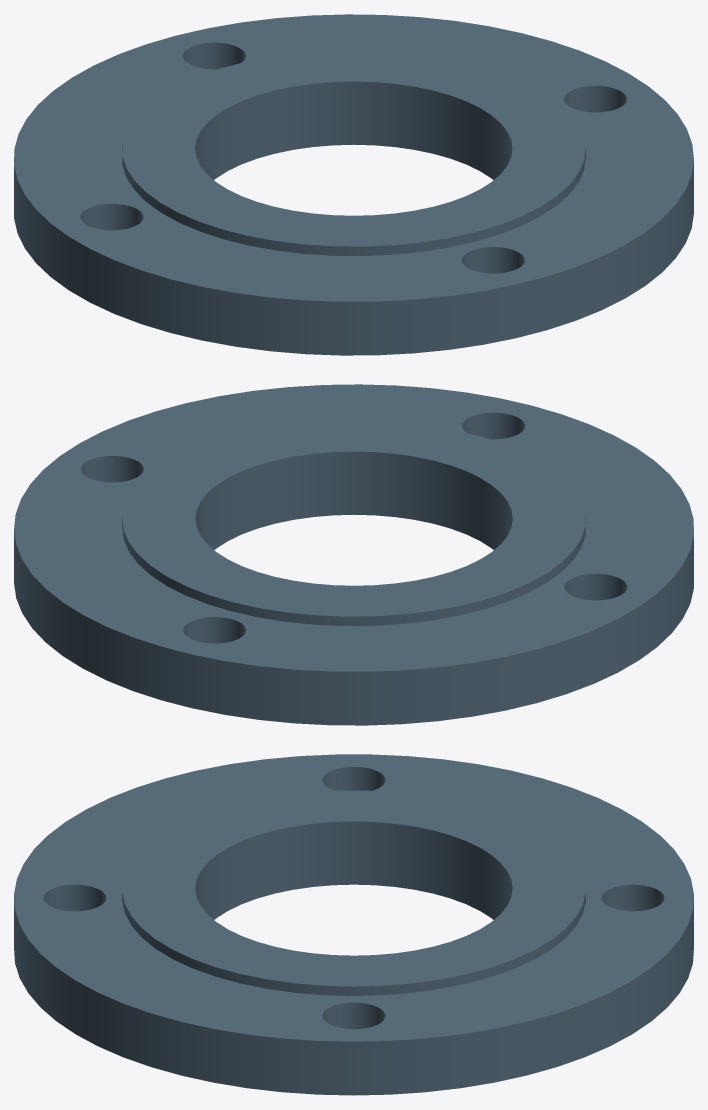
The model's file is flanec-ploskij-DN80-PN10.glb.
3 views of the same model, one above another, from view 1: azimuth 30°, elevation 25°; view 2: azimuth 150°, elevation 25°; view 3: azimuth 270°, elevation 25° (orthographic).
Parts seen in each view (by area): view 1: Open CASCADE STEP translator 7.9 22; view 2: Open CASCADE STEP translator 7.9 22; view 3: Open CASCADE STEP translator 7.9 22.
Part boxes in pixels (x1=…): Open CASCADE STEP translator 7.9 22: x1=14, y1=14, x2=693, y2=355; Open CASCADE STEP translator 7.9 22: x1=14, y1=384, x2=693, y2=725; Open CASCADE STEP translator 7.9 22: x1=14, y1=754, x2=693, y2=1095.
Size of the model in its own units: 195 by 20 by 195.
